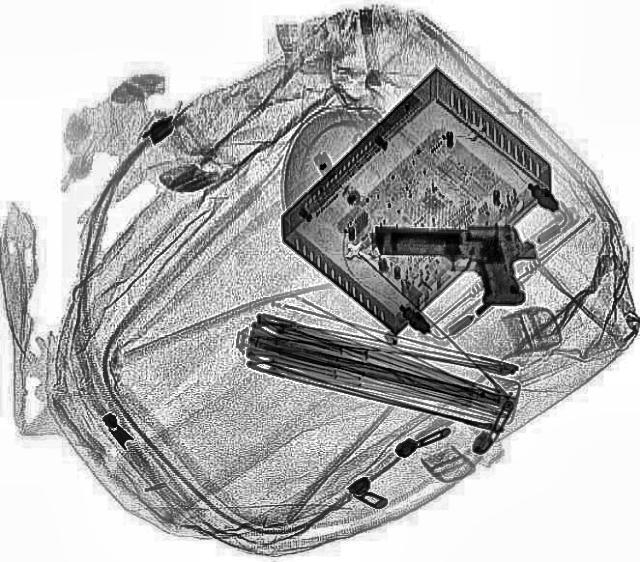Gun: (372, 226, 536, 304)
